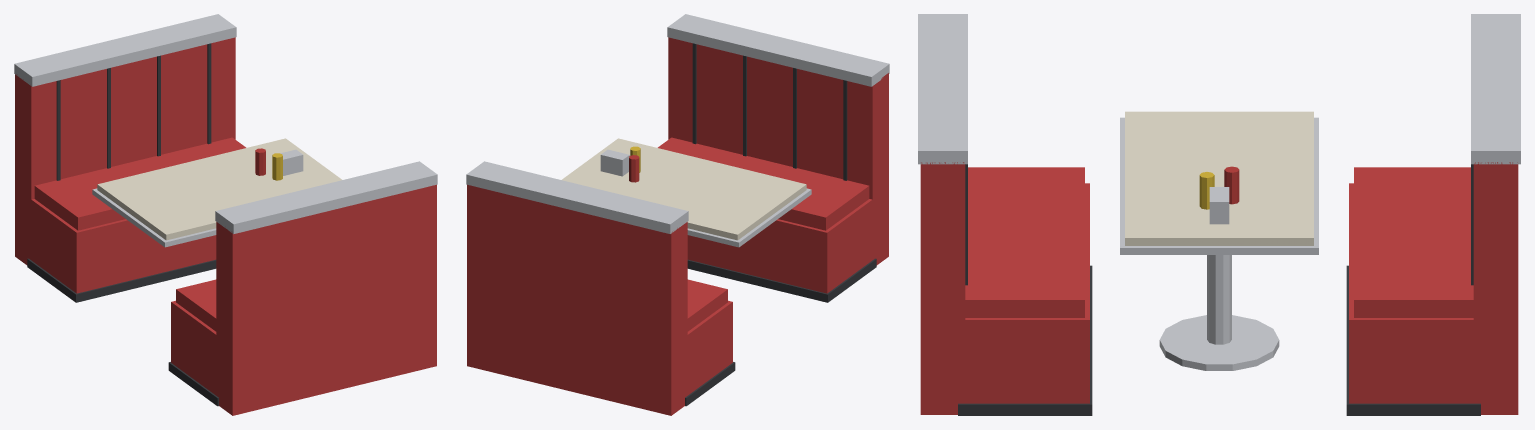
Rendered from diner_booth.glb.
3 renders of one model, left to right at view 1: azimuth 30°, elevation 25°; view 2: azimuth 150°, elevation 25°; view 3: azimuth 270°, elevation 25°, orthographic. The views are drawn at different scales.
Visible parts, largest first — view 1: diner_booth; view 2: diner_booth; view 3: diner_booth.
Boxes of the visible parts, x1,y1,x2,y2 form: diner_booth: (14, 14, 437, 415); diner_booth: (466, 14, 889, 415); diner_booth: (918, 14, 1520, 415).
Size of the model in its own units: 1.32 by 1.17 by 2.42.
